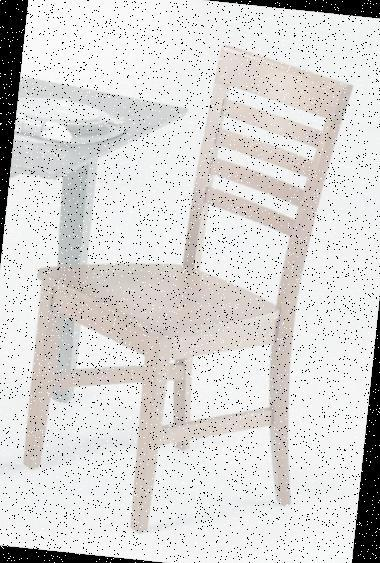Silla: (19, 33, 356, 548)
